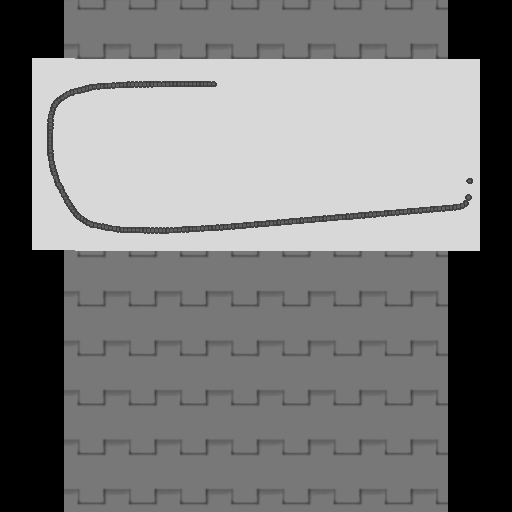Defect: (215, 78, 458, 125)
